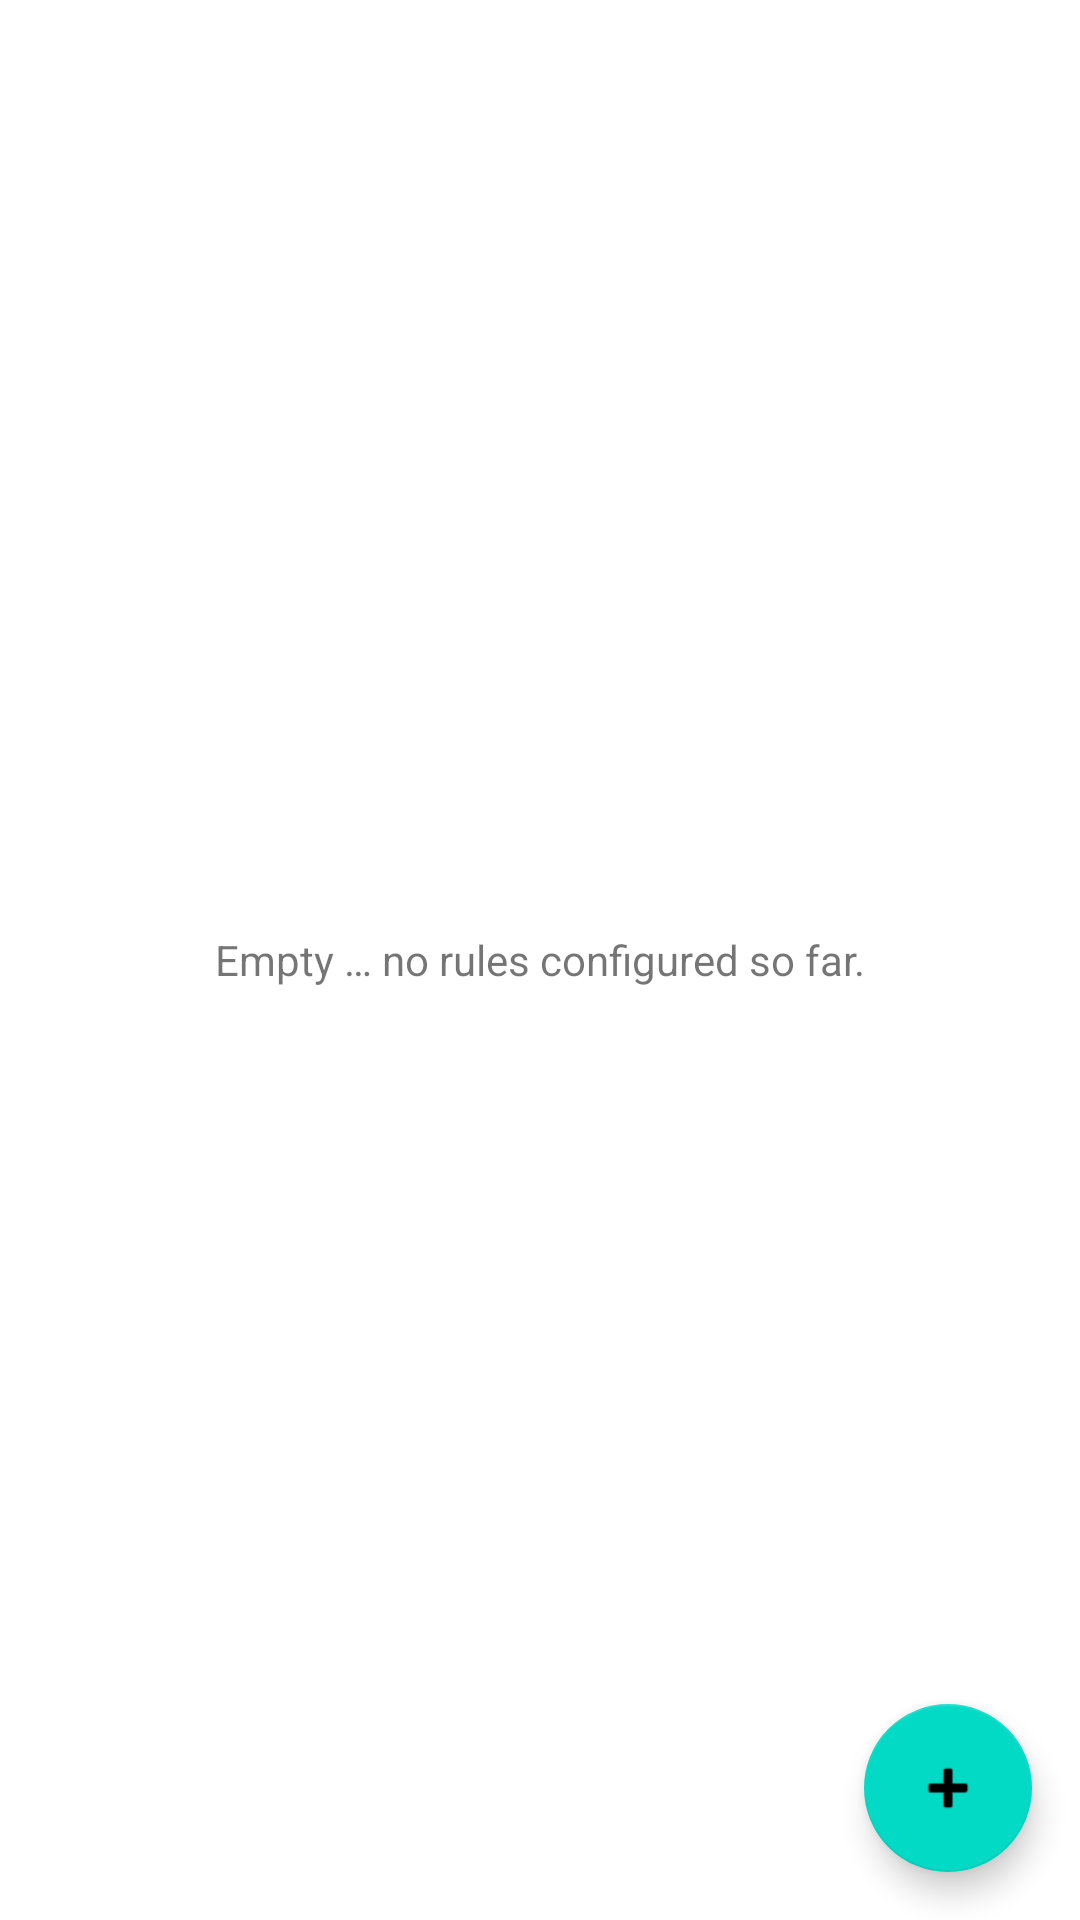

Where icons sit on this 1080w x 1920h app screen, as (x1=x1, y1=y1, x2=x2, y2=y2):
Add a rule: (x1=864, y1=1704, x2=1032, y2=1872)
